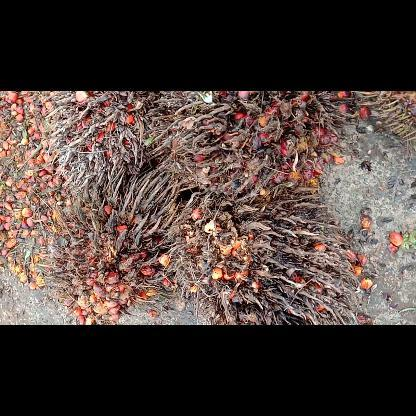Terlalu masak: (159, 174, 363, 324), (30, 164, 182, 324), (142, 91, 354, 205), (39, 91, 187, 204)
